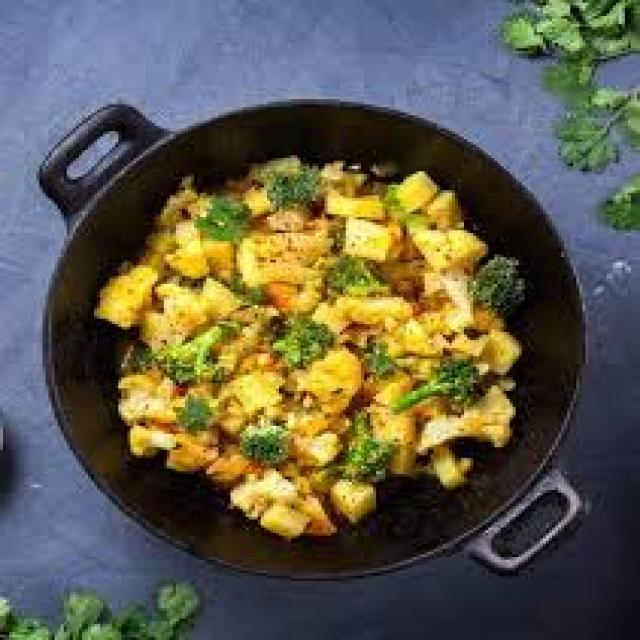Aloo Gobi: (95, 154, 532, 538)
